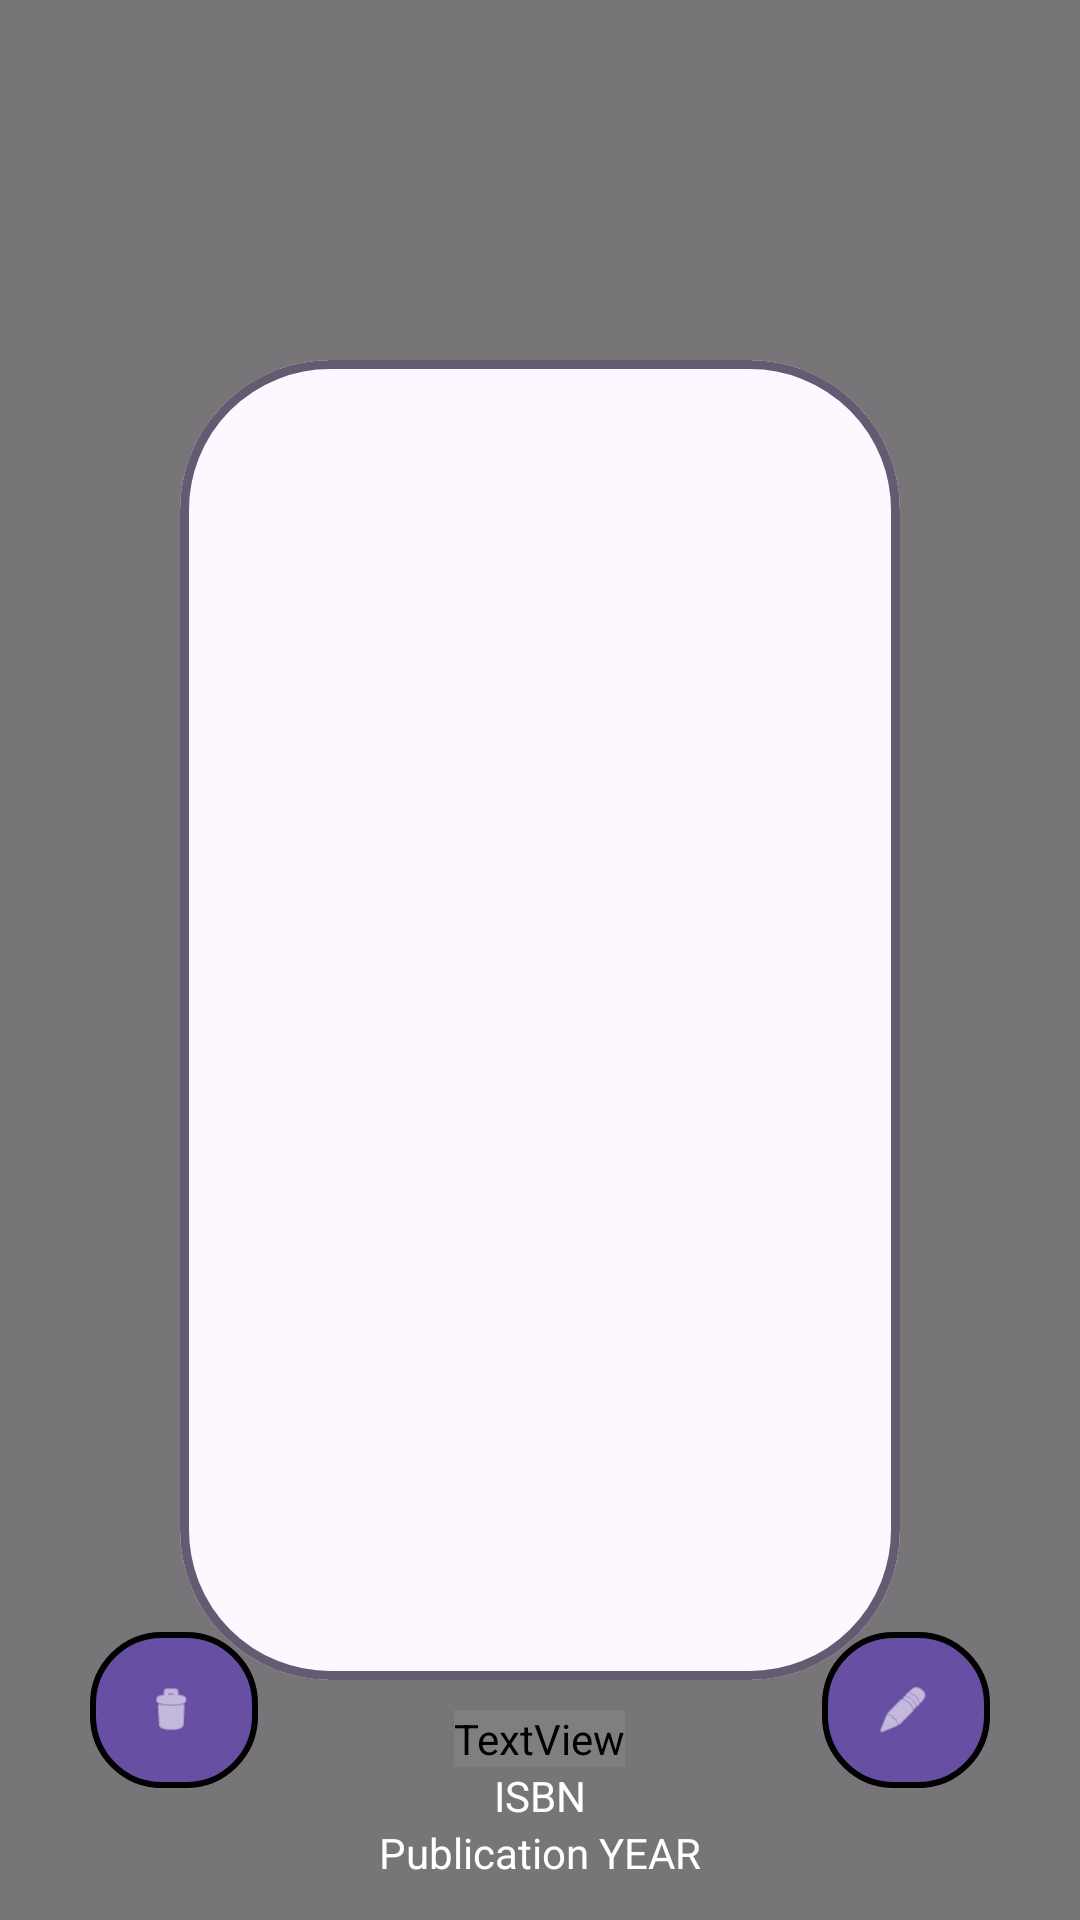

Screen size 1080 × 1920. Icon name, then its box in pixels as rect(x1, y1, x2, y2):
delete: rect(90, 1632, 258, 1788)
edit: rect(822, 1632, 990, 1788)
